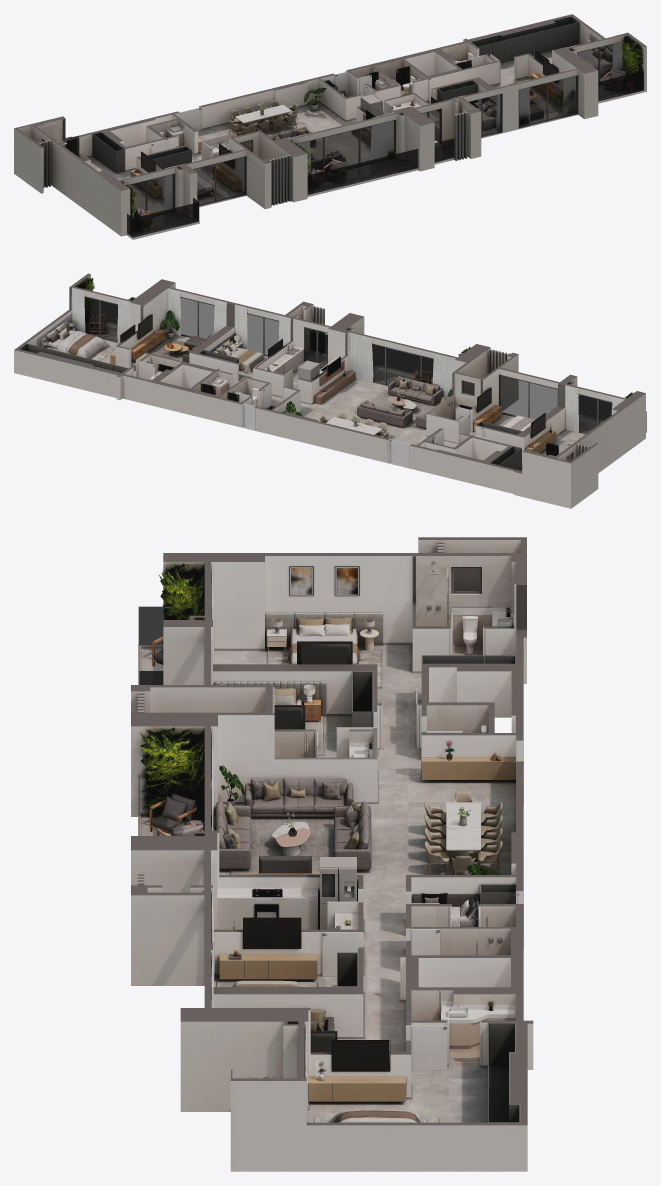
File: apartment.glb
3 renders of one model, top to bottom at view 1: azimuth 30°, elevation 25°; view 2: azimuth 150°, elevation 25°; view 3: azimuth 270°, elevation 25°, orthographic. The views are drawn at different scales.
Parts seen in each view (by area): view 1: Object_8, Object_4, Object_6, Object_11; view 2: Object_8, Object_4, Object_6, Object_13, Object_11; view 3: Object_8, Object_6, Object_11, Object_4.
Boxes of the visible parts, <box> form: Object_8: <box>14,14,646,239</box>; Object_4: <box>43,42,643,237</box>; Object_6: <box>134,48,625,222</box>; Object_11: <box>127,38,643,229</box>; Object_8: <box>14,273,646,508</box>; Object_4: <box>84,297,646,461</box>; Object_6: <box>46,311,571,457</box>; Object_13: <box>160,310,551,434</box>; Object_11: <box>78,277,634,398</box>; Object_8: <box>131,537,533,1171</box>; Object_6: <box>161,617,479,1122</box>; Object_11: <box>140,563,281,1078</box>; Object_4: <box>138,568,487,1077</box>.
Bounding box in the file's own units: 31.56 × 2.72 × 9.95.
5 materials, 4 textured.
